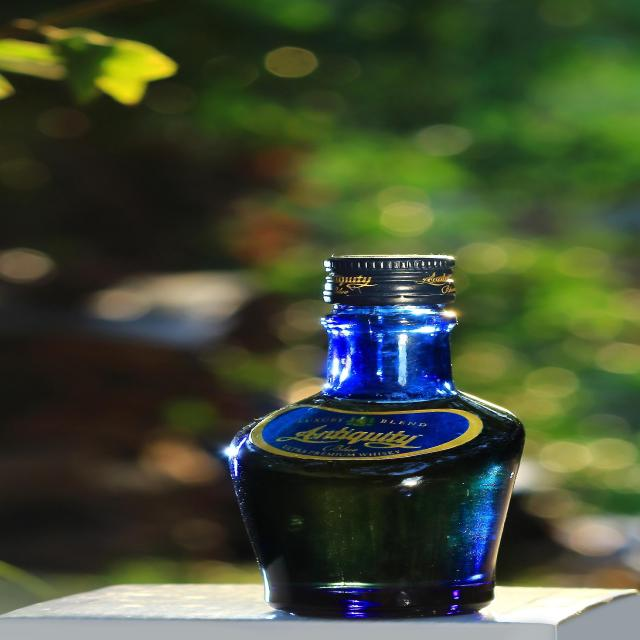blue_bottle: (214, 246, 544, 613)
